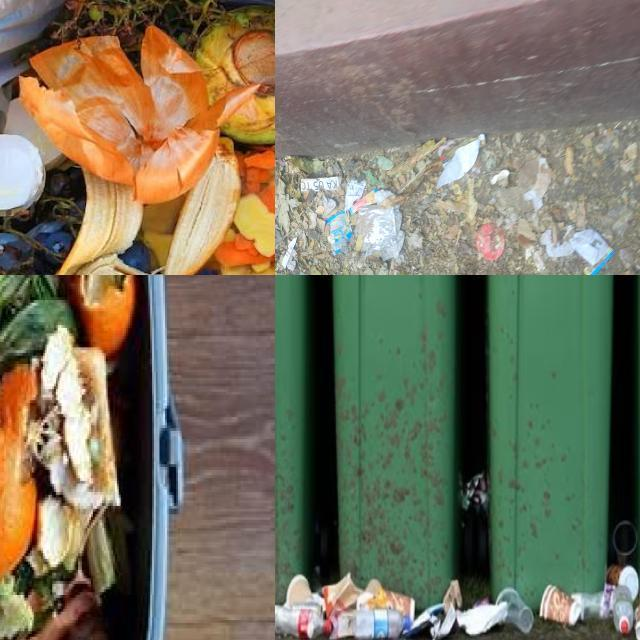Background: (275, 119, 640, 275)
Garbage: (0, 0, 275, 275), (0, 275, 142, 640)
Plastic_wraper: (541, 228, 614, 275), (355, 204, 405, 260), (327, 212, 352, 256), (348, 189, 376, 215), (282, 237, 297, 269), (289, 249, 290, 250)
